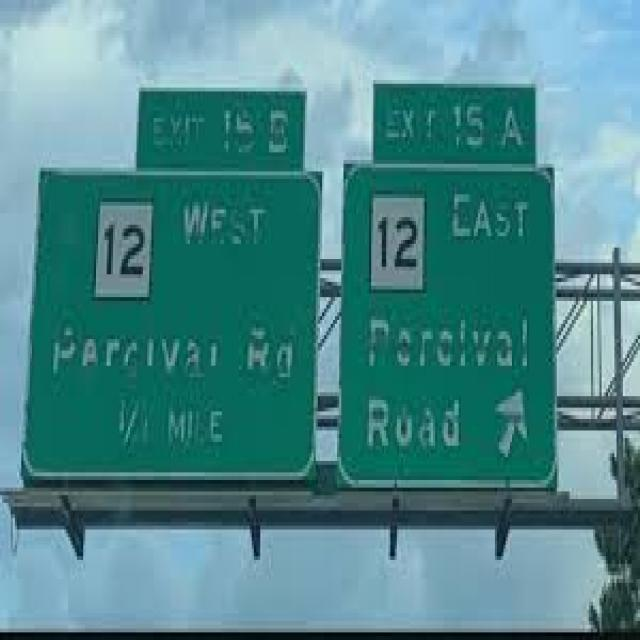street-signs: (20, 164, 324, 483), (337, 161, 558, 491), (134, 87, 306, 172), (371, 81, 539, 164)
